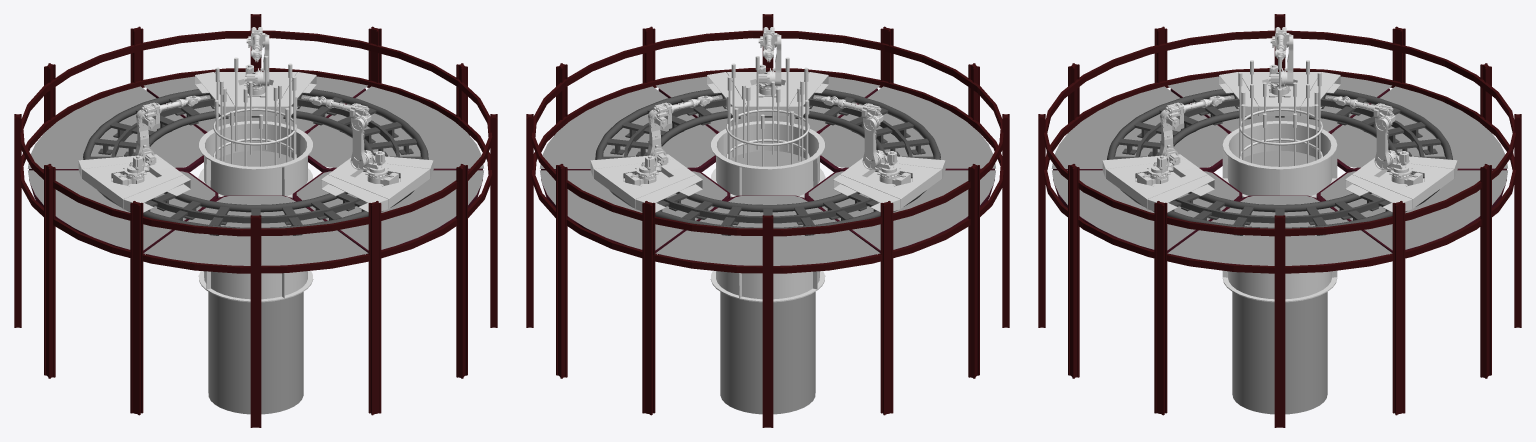
File: BridgeConstruction_Mesh_01.fbx
3 renders of one model, left to right at view 1: azimuth 30°, elevation 25°; view 2: azimuth 150°, elevation 25°; view 3: azimuth 270°, elevation 25°, orthographic.
Visible parts, largest first — view 1: Frame_Main, Frame_Floor, Robot_Rail, Structure_Concrete, Frame_Cap, Structure_Coupler, Robot_Mobile, Robot_Mobile.001, Robot_Mobile.002, Frame_Sub, Robot_Axis3.003, Robot_Axis4 (+3 smaller); view 2: Frame_Main, Frame_Floor, Robot_Rail, Structure_Concrete, Frame_Cap, Structure_Coupler, Robot_Mobile.002, Robot_Mobile, Robot_Mobile.001, Frame_Sub, Robot_Axis3, Robot_Axis4.004 (+3 smaller); view 3: Frame_Main, Frame_Floor, Robot_Rail, Structure_Concrete, Frame_Cap, Robot_Mobile.001, Robot_Mobile.002, Robot_Mobile, Structure_Coupler, Frame_Sub, Robot_Axis3.004, Robot_Axis4.003 (+3 smaller).
Boxes of the visible parts, x1,y1,x2,y2 form: Frame_Main: (14,14,497,427); Frame_Floor: (27,76,483,265); Robot_Rail: (83,86,428,235); Structure_Concrete: (208,150,303,414); Frame_Cap: (198,121,313,302); Structure_Coupler: (213,56,297,166); Robot_Mobile: (78,154,190,212); Robot_Mobile.001: (321,155,433,212); Robot_Mobile.002: (195,72,316,116); Frame_Sub: (29,88,482,265); Robot_Axis3.003: (350,116,367,169); Robot_Axis4: (137,99,182,129); Frame_Main: (526,14,1009,427); Frame_Floor: (539,76,995,265); Robot_Rail: (595,86,940,235); Structure_Concrete: (720,150,815,414); Frame_Cap: (710,121,825,302); Structure_Coupler: (726,56,809,166); Robot_Mobile.002: (590,154,702,212); Robot_Mobile: (833,155,945,212); Robot_Mobile.001: (707,72,828,116); Frame_Sub: (541,88,994,265); Robot_Axis3: (862,116,879,169); Robot_Axis4.004: (649,99,694,129); Frame_Main: (1038,14,1521,427); Frame_Floor: (1051,76,1507,265); Robot_Rail: (1107,86,1452,235); Structure_Concrete: (1232,150,1327,414); Frame_Cap: (1222,121,1337,302); Robot_Mobile.001: (1102,154,1214,212); Robot_Mobile.002: (1345,155,1457,212); Robot_Mobile: (1219,72,1340,116); Structure_Coupler: (1238,55,1322,166); Frame_Sub: (1053,88,1506,264); Robot_Axis3.004: (1374,116,1391,169); Robot_Axis4.003: (1161,99,1206,129).
Size of the model in its own units: 1015 by 745 by 1015.
